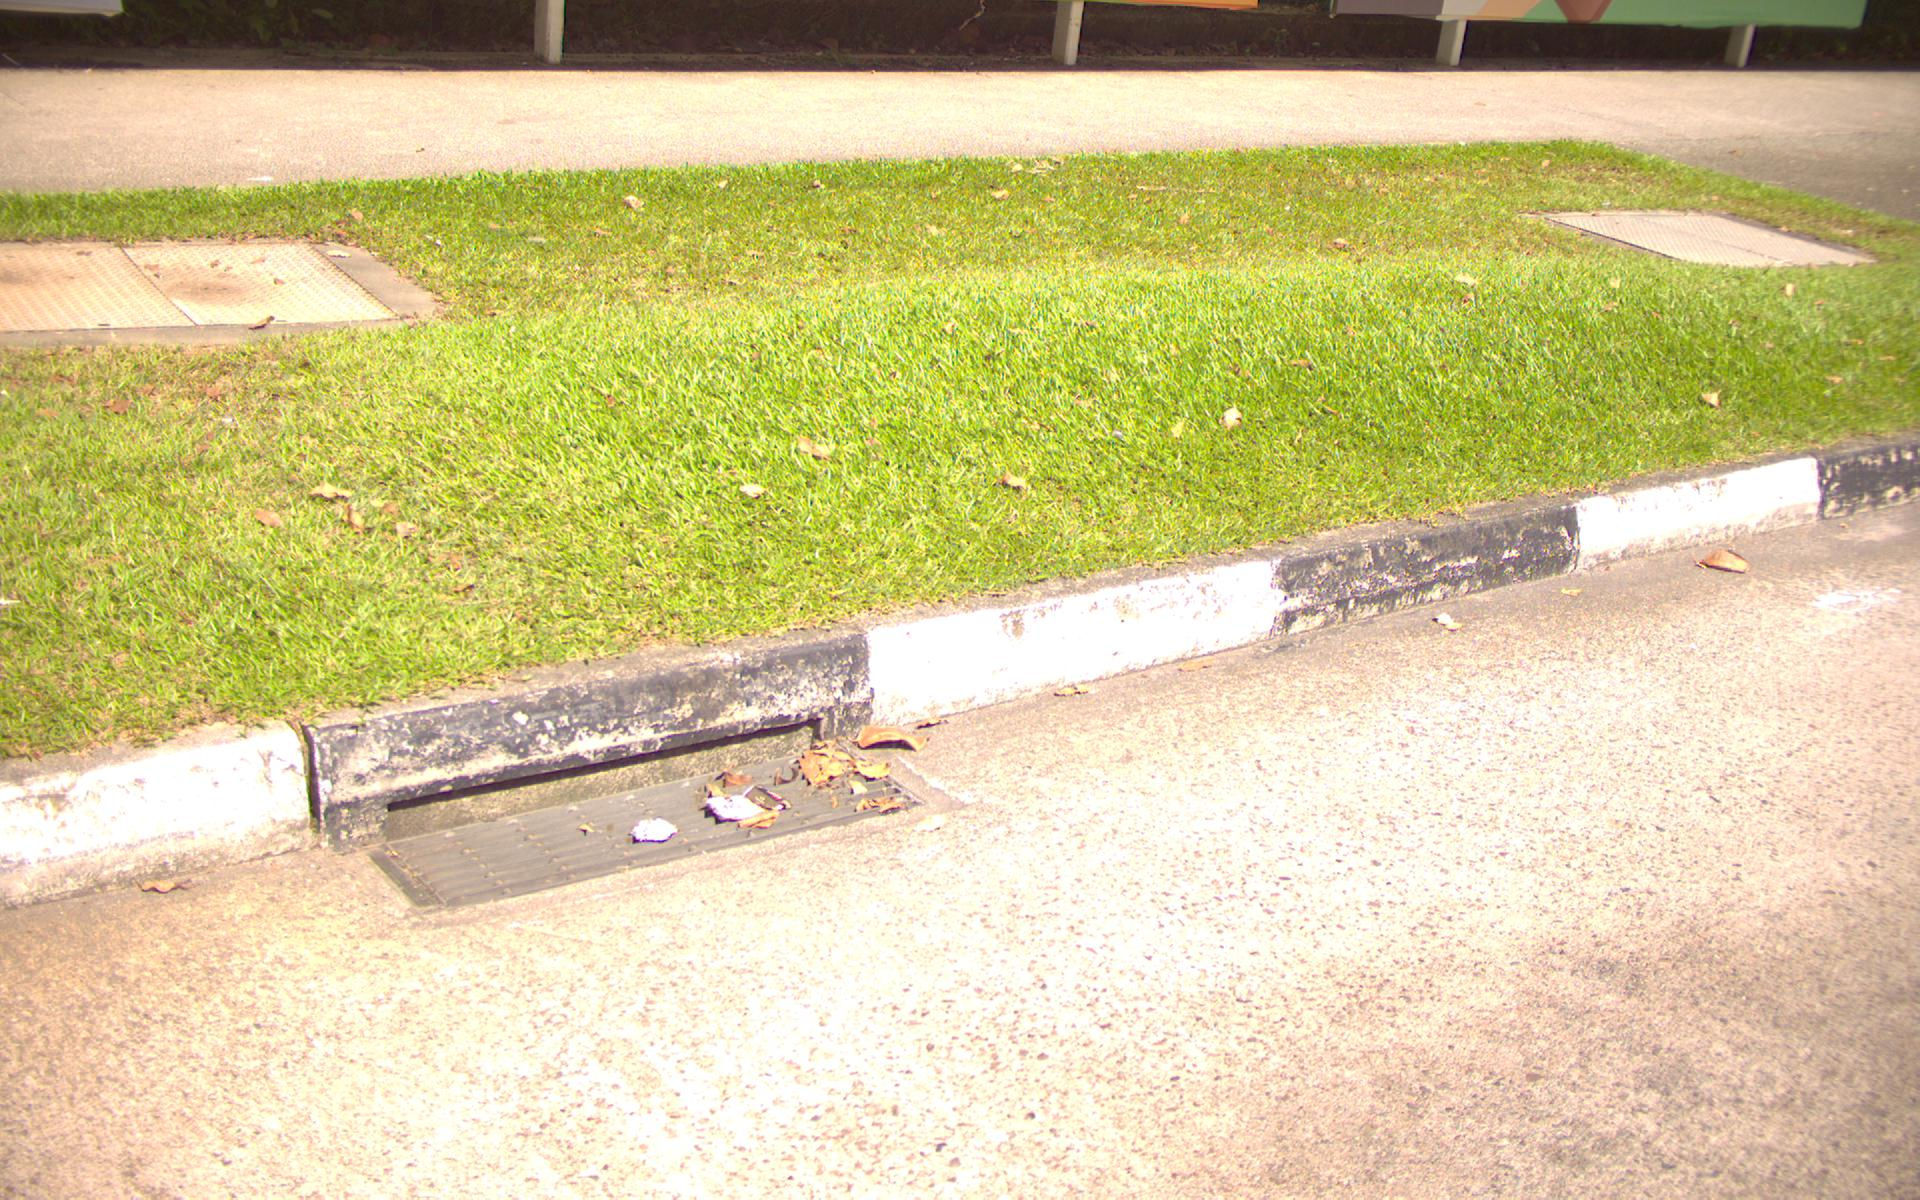curb_dic_low: (346, 753, 963, 903)
pathway_low: (8, 73, 1920, 142)
road_turf_low: (453, 160, 1865, 445)
